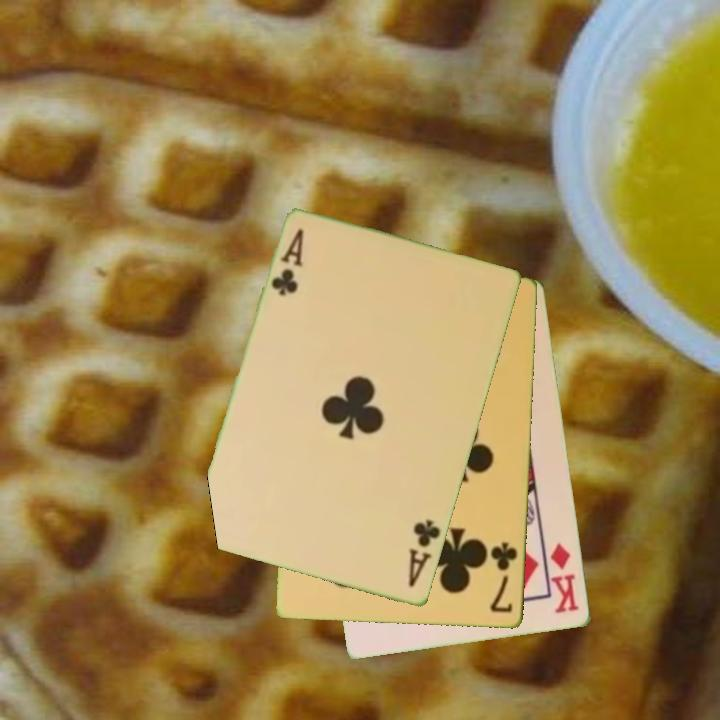7c: (487, 539, 521, 616)
Ac: (268, 225, 307, 300), (405, 516, 444, 590)
Kd: (547, 540, 582, 617)
